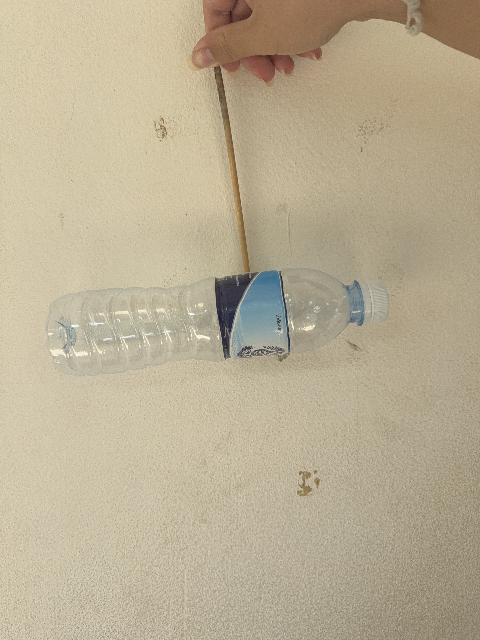bottle: (47, 269, 388, 375)
